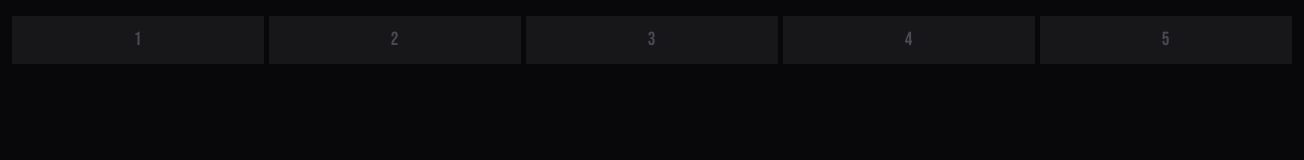
Test: HomeHeroStates — Accessibility (A11y) › MorningAfterScore — Estructura accesible y estados › muestra los errores con role="alert"
The image size is (1304, 160).
Click the button "3" at (652, 40), box [526,16,778,64]
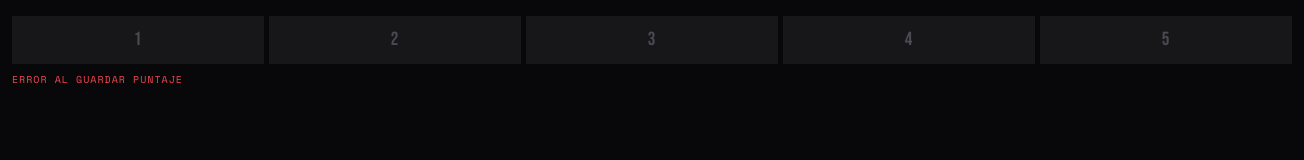
Expected: the message reads "Error al guardar puntaje", [12,72,183,87]
